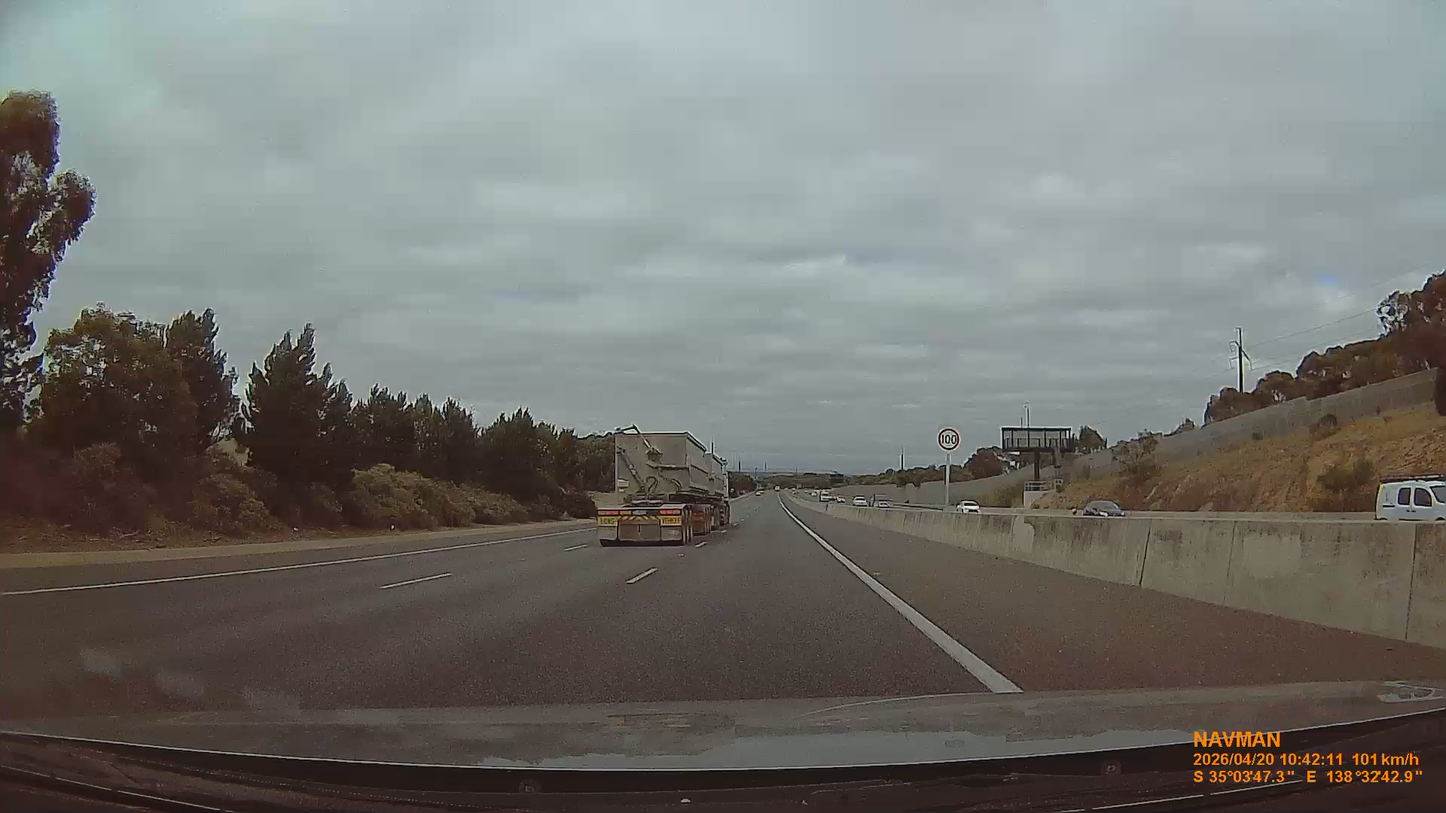road barriers: (792, 501, 1445, 647)
